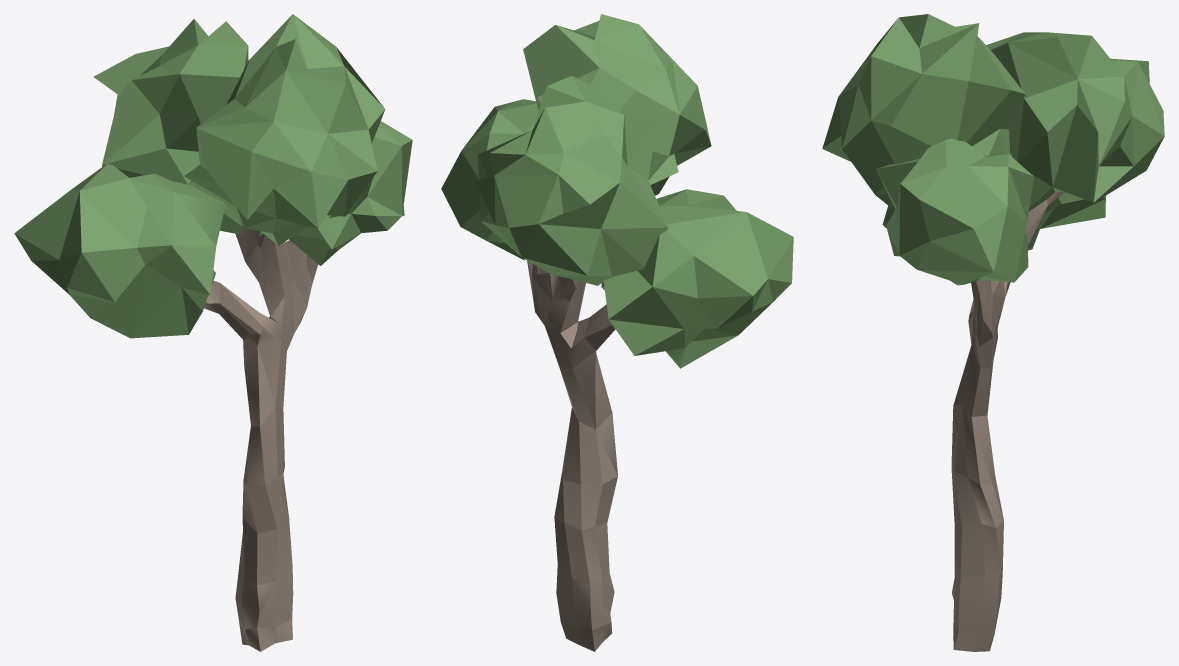
File: tree5.fbx
3 views of the same model, side by side, from view 1: azimuth 30°, elevation 25°; view 2: azimuth 150°, elevation 25°; view 3: azimuth 270°, elevation 25° (orthographic). The views are drawn at different scales.
Parts seen in each view (by area): view 1: pSolid34, pSolid33, pCube9, pSolid35, pSolid36; view 2: pSolid35, pSolid33, pCube9, pSolid34, pSolid36; view 3: pSolid34, pSolid35, pSolid36, pCube9, pSolid33.
Boxes of the visible parts, x1,y1,x2,y2 form: pSolid34: [184, 14, 385, 245]; pSolid33: [14, 164, 225, 338]; pCube9: [204, 223, 318, 651]; pSolid35: [93, 19, 249, 234]; pSolid36: [259, 121, 412, 265]; pSolid35: [475, 76, 668, 285]; pSolid33: [601, 189, 793, 368]; pCube9: [527, 260, 617, 651]; pSolid34: [523, 14, 711, 195]; pSolid36: [441, 99, 538, 260]; pSolid34: [822, 14, 1025, 210]; pSolid35: [986, 32, 1164, 212]; pSolid36: [876, 138, 1033, 285]; pCube9: [951, 192, 1065, 651]; pSolid33: [1028, 195, 1106, 250].
Bounding box in the file's own units: 8.46 × 14.44 × 6.97.
